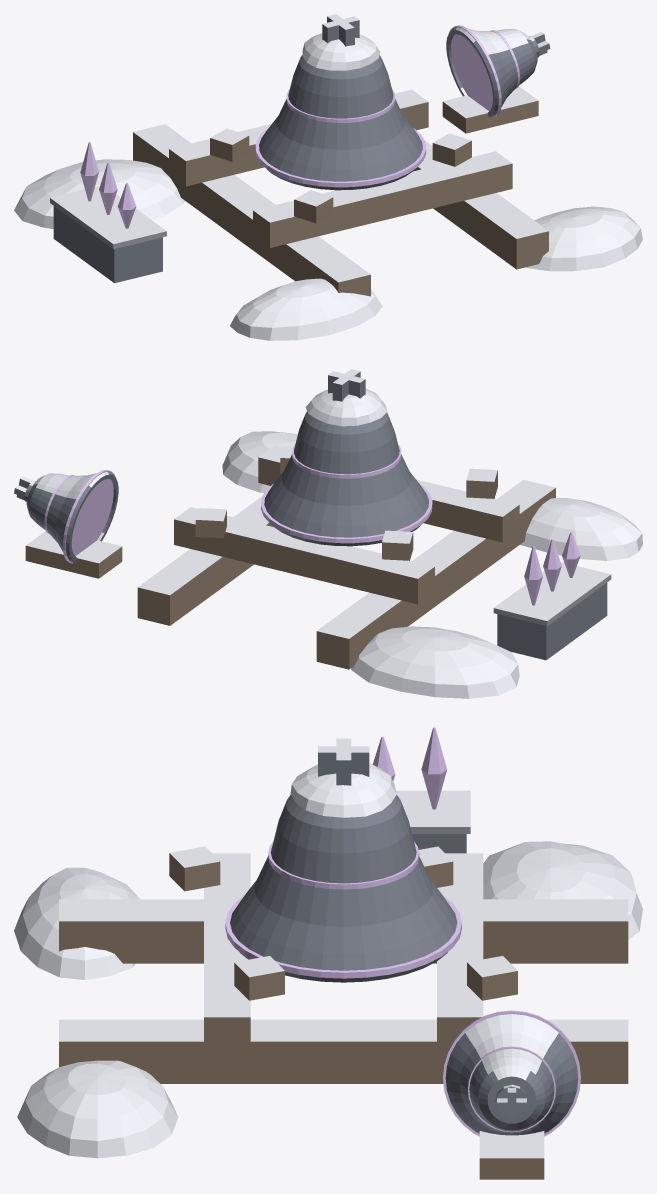
File: PR_Sino_Berco_Ressonancia.fbx
3 renders of one model, top to bottom at view 1: azimuth 30°, elevation 25°; view 2: azimuth 150°, elevation 25°; view 3: azimuth 270°, elevation 25°, orthographic. The views are drawn at different scales.
Visible parts, largest first — view 1: PR_Sino_Berco_Ressonancia; view 2: PR_Sino_Berco_Ressonancia; view 3: PR_Sino_Berco_Ressonancia.
Part boxes in pixels (x1,y1,x2,y2): PR_Sino_Berco_Ressonancia: (14, 14, 642, 340); PR_Sino_Berco_Ressonancia: (14, 369, 642, 698); PR_Sino_Berco_Ressonancia: (14, 727, 642, 1179).
Bounding box in the file's own units: 6.32 × 2.29 × 4.86.
